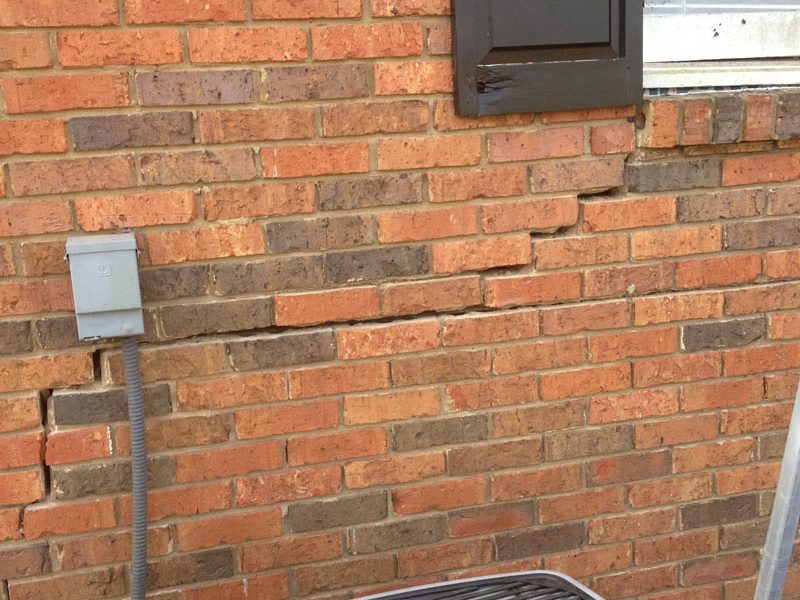stairstep_crack: (144, 143, 646, 352), (0, 341, 116, 545)
